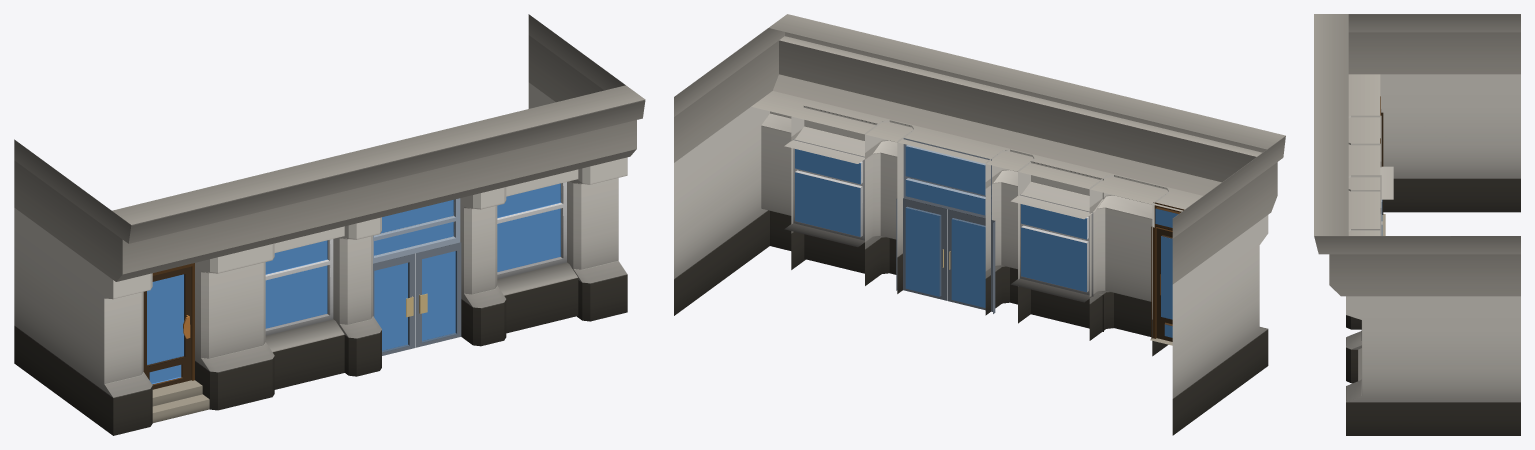
File: Build3_1F.FBX
3 views of the same model, side by side, from view 1: azimuth 30°, elevation 25°; view 2: azimuth 150°, elevation 25°; view 3: azimuth 270°, elevation 25° (orthographic). The views are drawn at different scales.
Parts seen in each view (by area): view 1: Object024; view 2: Object024; view 3: Object024.
Boxes of the visible parts, left/top/right/bottom form: Object024: left=14, top=14, right=645, bottom=435; Object024: left=674, top=14, right=1285, bottom=435; Object024: left=1314, top=14, right=1520, bottom=435.
Size of the model in its own units: 6 by 2.52 by 2.36.
